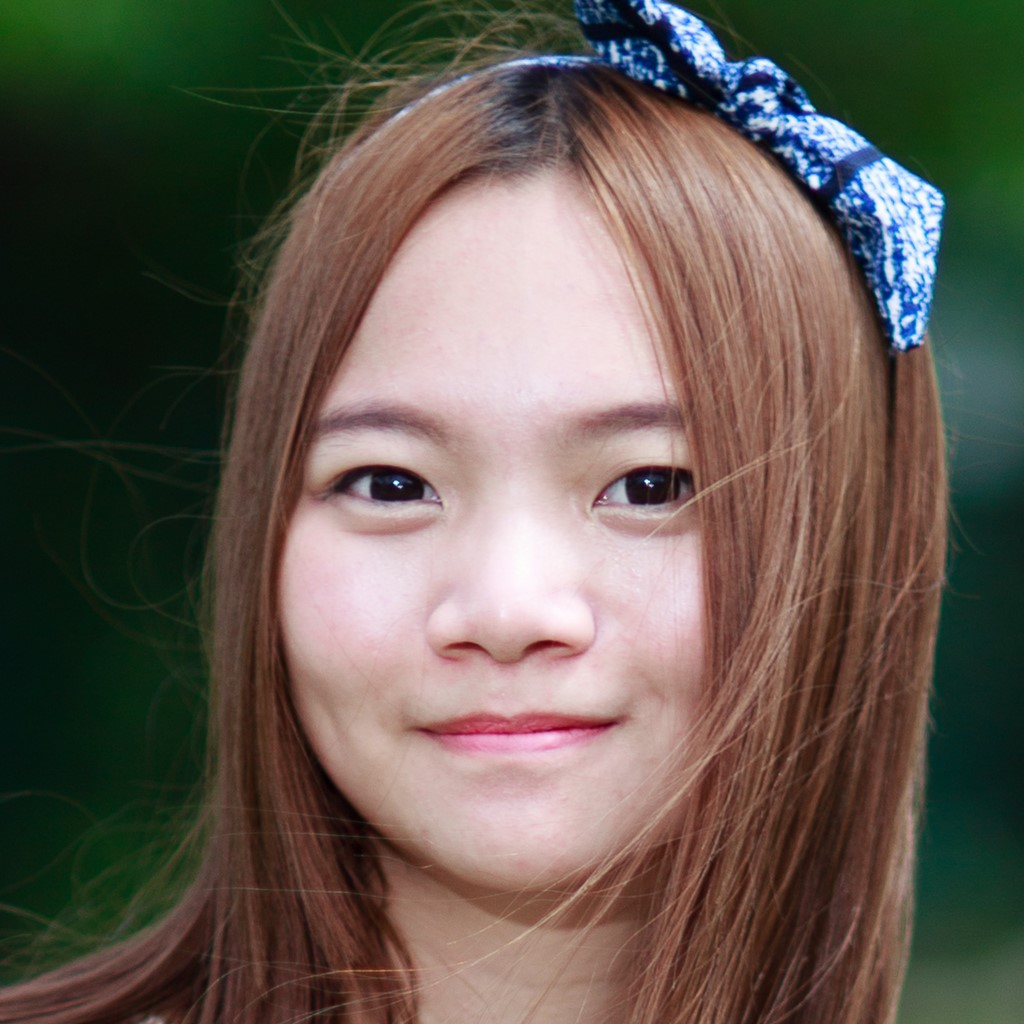sin_mascara: (262, 162, 858, 926)
